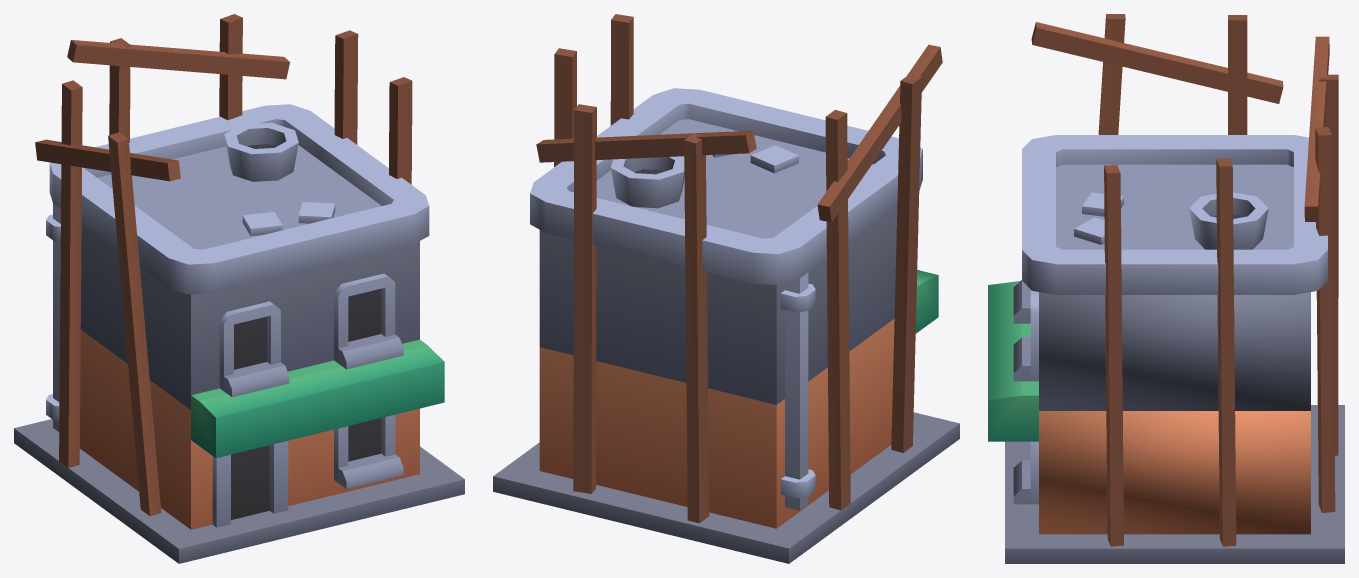
The model's file is building_over_1.glb.
3 views of the same model, side by side, from view 1: azimuth 30°, elevation 25°; view 2: azimuth 150°, elevation 25°; view 3: azimuth 270°, elevation 25° (orthographic). The views are drawn at different scales.
Parts seen in each view (by area): view 1: building-small-d; view 2: building-small-d; view 3: building-small-d.
Part boxes in pixels (box(x1,y1,x2,y2)): building-small-d: box(14, 14, 464, 563); building-small-d: box(493, 14, 959, 563); building-small-d: box(988, 14, 1344, 563).
Size of the model in its own units: 1.04 by 1.33 by 1.05.
Materials: 1 (1 with a texture image).
